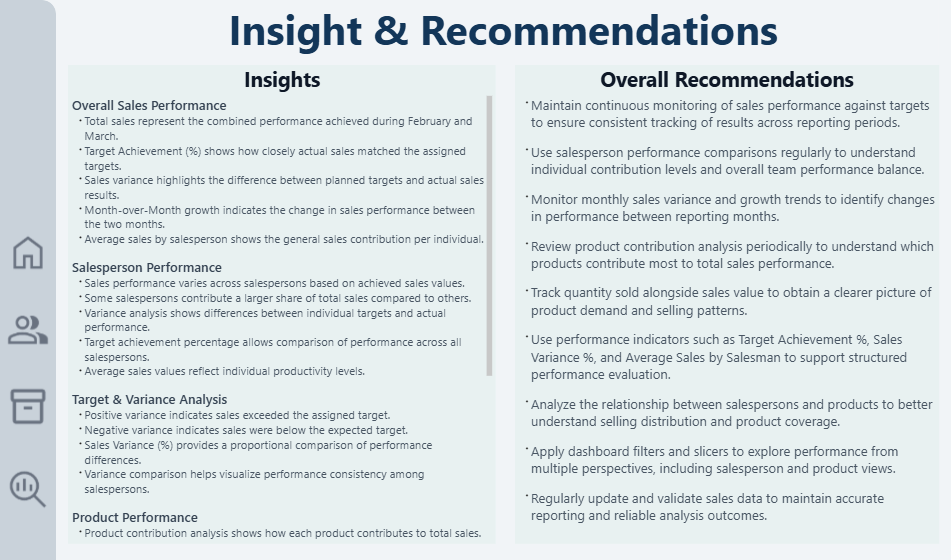

The dashboard page shown, as its layout file describes it:
{"tool":"powerbi","page":{"name":"Insight & Recommendations","canvas":[1360,800],"ordinal":3},"visuals":[{"type":"shape","box":[0,0,80,800],"z":0,"group":"g1"},{"type":"shape","box":[97.5,0,1243.8,80],"z":0},{"type":"group","id":"g1","title":"Group 1","box":[0,0,80,800],"z":1000},{"type":"textbox","title":"Insights","box":[97.1,92.9,611.4,684.3],"z":2000},{"type":"actionButton","box":[0,326.2,80,70],"z":2000,"group":"g1"},{"type":"textbox","title":"Overall Recommendations","box":[735.7,92.9,605.7,684.3],"z":3000},{"type":"actionButton","box":[0,436.2,80,70],"z":3000,"group":"g1"},{"type":"actionButton","box":[0,546.2,80,70],"z":4000,"group":"g1"},{"type":"actionButton","box":[0,663.8,80,70],"z":5000,"group":"g1"}]}

Visuals, with their boxes in screenshot pixels (x1, y1, x2, y2), scaled from the page's 1360x800 canvas onto the 951x560 screenshot:
shape: 0/0/56/559
shape: 68/0/938/56
"Group 1" group: 0/0/56/559
"Insights" textbox: 68/65/495/544
actionButton: 0/228/56/277
"Overall Recommendations" textbox: 514/65/938/544
actionButton: 0/305/56/354
actionButton: 0/382/56/431
actionButton: 0/465/56/514
